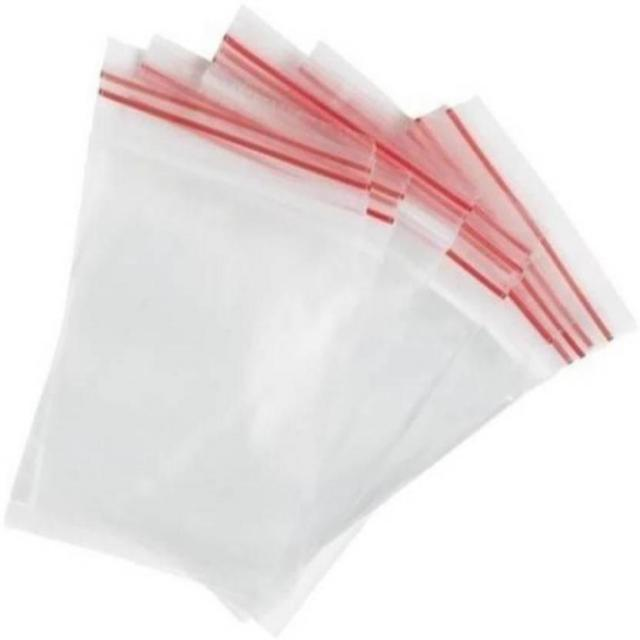plastic_bag: (44, 9, 484, 553), (171, 111, 634, 609), (13, 65, 379, 547)
